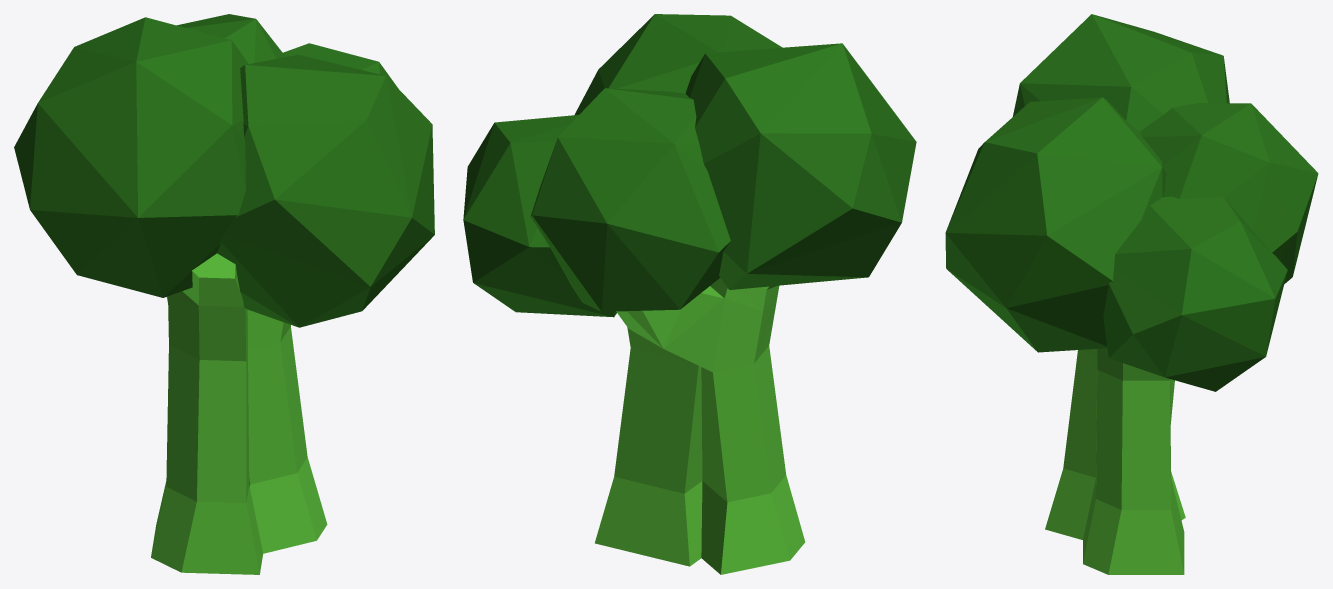
The model's file is Broccoli.obj.
The picture shows the model from 3 angles, left to right: view 1: azimuth 30°, elevation 25°; view 2: azimuth 150°, elevation 25°; view 3: azimuth 270°, elevation 25°; orthographic projection. The views are drawn at different scales.
Visible parts, largest first — view 1: Broccoli_DarkGreen, Broccoli_LightGreen; view 2: Broccoli_DarkGreen, Broccoli_LightGreen; view 3: Broccoli_DarkGreen, Broccoli_LightGreen.
Boxes of the visible parts, bbox=[...] form: Broccoli_DarkGreen: bbox=[14, 14, 434, 327]; Broccoli_LightGreen: bbox=[151, 253, 327, 574]; Broccoli_DarkGreen: bbox=[463, 14, 916, 317]; Broccoli_LightGreen: bbox=[595, 278, 805, 574]; Broccoli_DarkGreen: bbox=[945, 14, 1318, 391]; Broccoli_LightGreen: bbox=[1045, 348, 1185, 574].
Bounding box in the file's own units: 0.7515 × 0.8996 × 0.6444.
